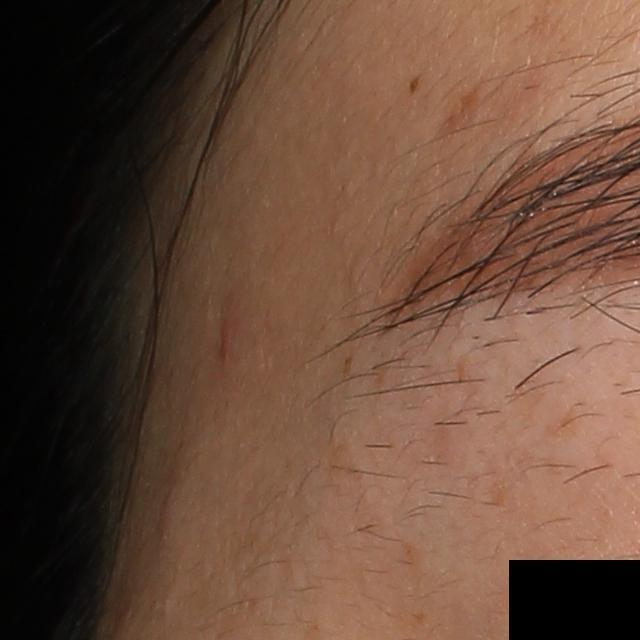papule: (213, 306, 242, 370)
